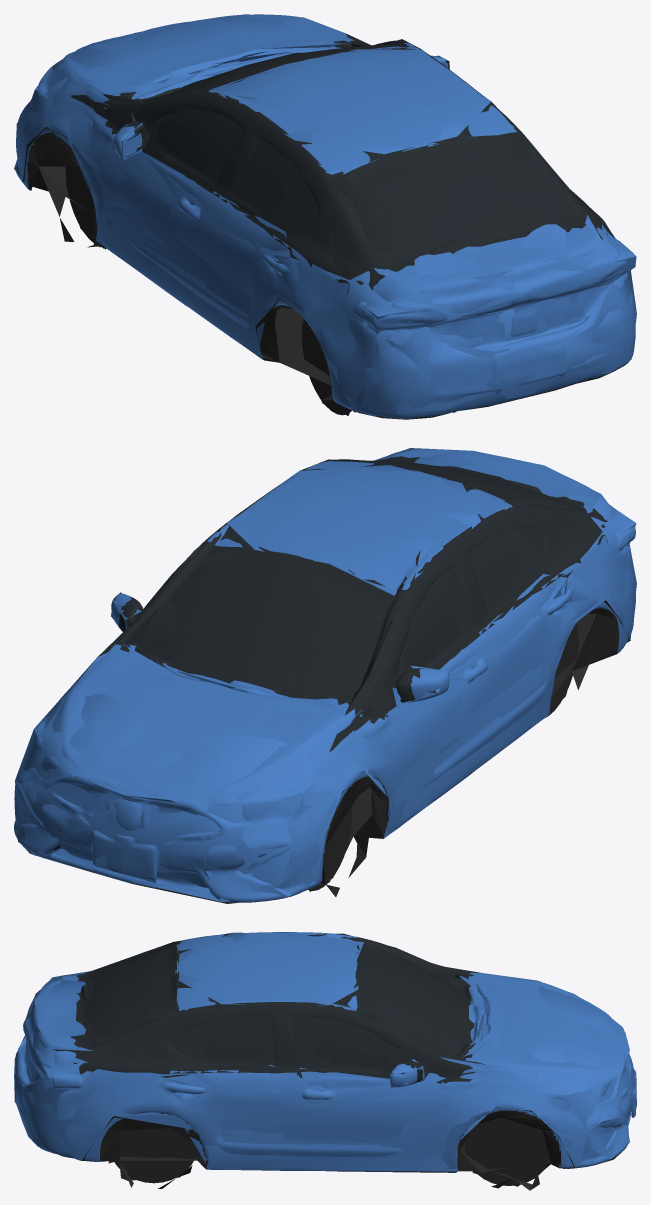
File: acura-ilx.glb
3 renders of one model, top to bottom at view 1: azimuth 30°, elevation 25°; view 2: azimuth 150°, elevation 25°; view 3: azimuth 270°, elevation 25°, orthographic. The views are drawn at different scales.
Visible parts, largest first — view 1: body, far; view 2: body, far; view 3: body, far.
Boxes of the visible parts, x1,y1,x2,y2 form: body: [16, 14, 635, 419]; far: [14, 14, 636, 415]; body: [14, 449, 635, 903]; far: [15, 448, 636, 901]; body: [14, 932, 636, 1190]; far: [14, 932, 635, 1186].
Size of the model in its own units: 2.17 by 1.48 by 4.62.
